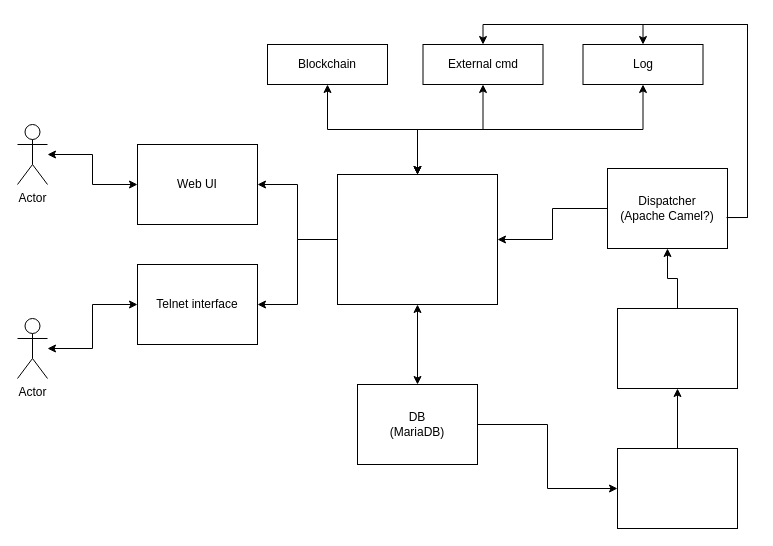
Image size: 773x546. Some labels were removed from this diagram. Here are the shapes that lost their labels. From the top down, the centre of each, then its label:
the point at 417,239: Backend
the point at 677,348: MQ (RabbitMQ)
the point at 677,488: CDC (ZenDesk Maxwell)
